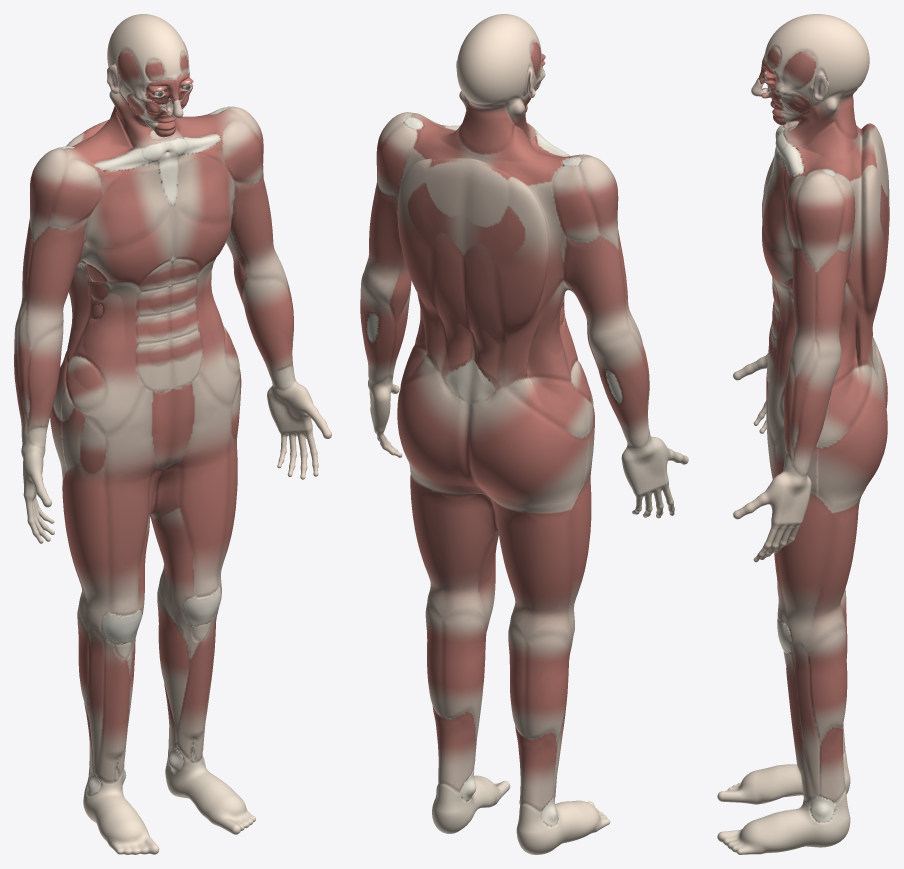
The model's file is female.glb.
The picture shows the model from 3 angles, left to right: view 1: azimuth 30°, elevation 25°; view 2: azimuth 150°, elevation 25°; view 3: azimuth 270°, elevation 25°; orthographic projection. The views are drawn at different scales.
Parts seen in each view (by area): view 1: skin; view 2: skin; view 3: skin.
Boxes of the visible parts, x1=… form: skin: x1=14, y1=14, x2=331, y2=854; skin: x1=360, y1=14, x2=688, y2=854; skin: x1=717, y1=14, x2=889, y2=854.
Size of the model in its own units: 0.6293 by 1.65 by 0.3195.
